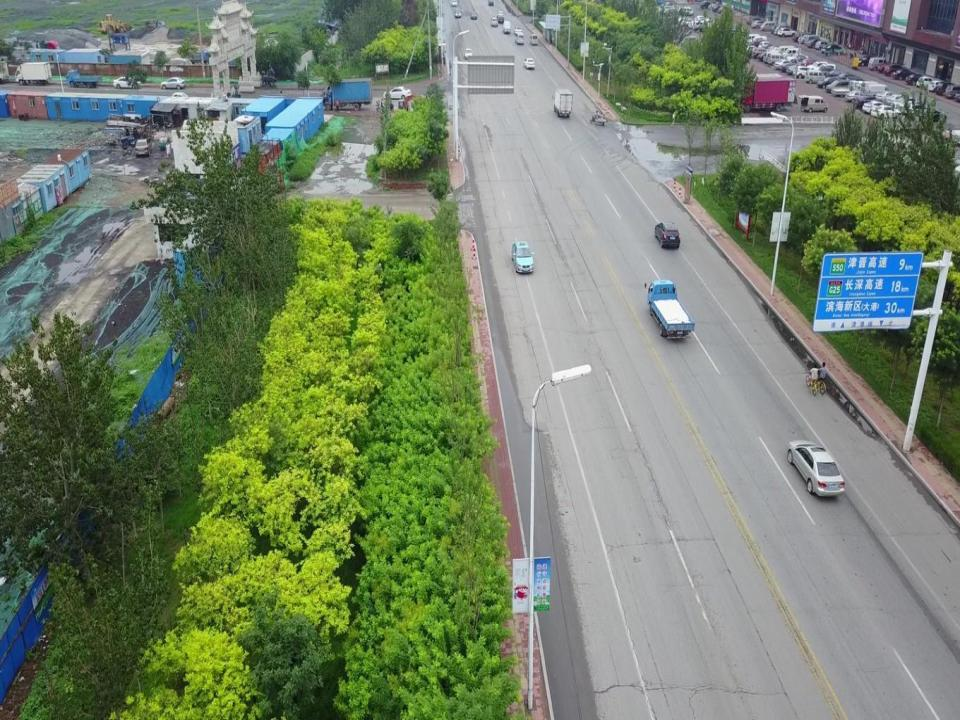car: (788, 439, 846, 497), (654, 221, 680, 249), (511, 241, 534, 272), (871, 105, 902, 118), (904, 103, 936, 115), (113, 77, 142, 90), (826, 80, 855, 93), (384, 86, 412, 98), (863, 101, 890, 113), (892, 97, 921, 108), (160, 78, 186, 90), (856, 97, 882, 109), (920, 110, 946, 122), (886, 94, 911, 106), (806, 62, 836, 72), (818, 77, 842, 89), (135, 140, 152, 156), (845, 91, 869, 102), (786, 55, 810, 66), (876, 91, 899, 102), (883, 63, 906, 74), (774, 59, 796, 70), (916, 76, 936, 88), (905, 72, 925, 84), (891, 69, 915, 79), (797, 58, 819, 68), (856, 55, 878, 65), (822, 43, 842, 54), (792, 30, 810, 42), (846, 76, 869, 85), (758, 51, 778, 61), (752, 48, 772, 58), (793, 68, 815, 77), (829, 70, 851, 79), (877, 63, 899, 72), (782, 63, 803, 72), (838, 73, 861, 81), (928, 80, 944, 91), (759, 40, 776, 50), (806, 39, 827, 47), (787, 66, 806, 74), (777, 27, 796, 35), (815, 40, 830, 49), (523, 58, 534, 70), (748, 16, 764, 24), (464, 48, 472, 59), (454, 8, 462, 18), (514, 26, 522, 35), (470, 11, 478, 19), (497, 15, 504, 24), (490, 18, 497, 26), (497, 10, 503, 18), (451, 0, 457, 7), (488, 0, 494, 6)
truck: (644, 280, 694, 337), (731, 74, 794, 109), (320, 80, 372, 110), (14, 62, 52, 86), (66, 70, 102, 88), (552, 88, 573, 116), (27, 40, 59, 56), (831, 80, 860, 96)
van: (798, 95, 828, 112), (804, 68, 826, 84), (866, 84, 892, 97), (868, 58, 890, 70), (860, 82, 882, 93), (774, 46, 796, 57), (935, 83, 957, 93), (768, 53, 786, 64), (763, 52, 782, 62), (782, 47, 800, 57), (744, 33, 760, 44), (774, 24, 790, 35), (761, 20, 778, 30), (944, 87, 960, 97), (750, 37, 768, 45), (805, 35, 820, 44), (514, 33, 524, 44), (503, 21, 511, 34), (798, 34, 811, 42), (529, 34, 538, 45)
